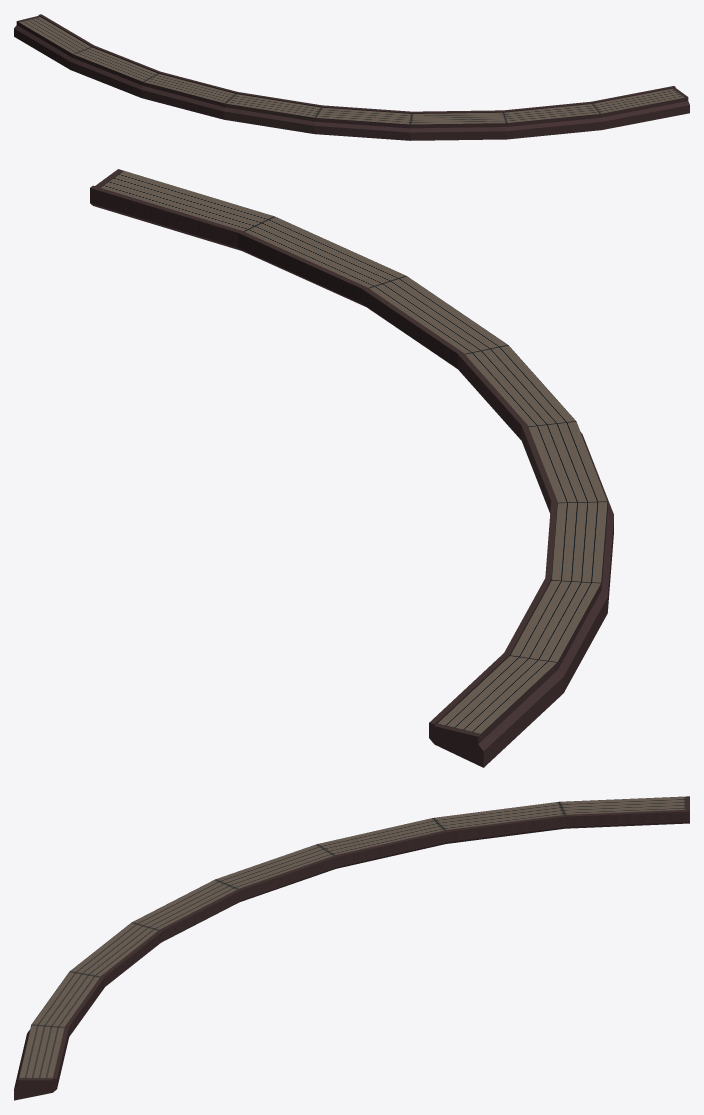
Rendered from SW_ENV_EL_TrackBase_Walkway_SingleInner_Side_A.fbx.
3 views of the same model, one above another, from view 1: azimuth 30°, elevation 25°; view 2: azimuth 150°, elevation 25°; view 3: azimuth 270°, elevation 25° (orthographic). The views are drawn at different scales.
Visible parts, largest first — view 1: SW_ENV_EL_TrackBase_Walkway_SingleInner_Side_A; view 2: SW_ENV_EL_TrackBase_Walkway_SingleInner_Side_A; view 3: SW_ENV_EL_TrackBase_Walkway_SingleInner_Side_A.
Boxes of the visible parts, box(x1,y1,x2,y2) form: SW_ENV_EL_TrackBase_Walkway_SingleInner_Side_A: box(14, 14, 689, 140); SW_ENV_EL_TrackBase_Walkway_SingleInner_Side_A: box(90, 169, 613, 767); SW_ENV_EL_TrackBase_Walkway_SingleInner_Side_A: box(14, 796, 689, 1100).
Bounding box in the file's own units: 2355 × 83.5 × 2355.
